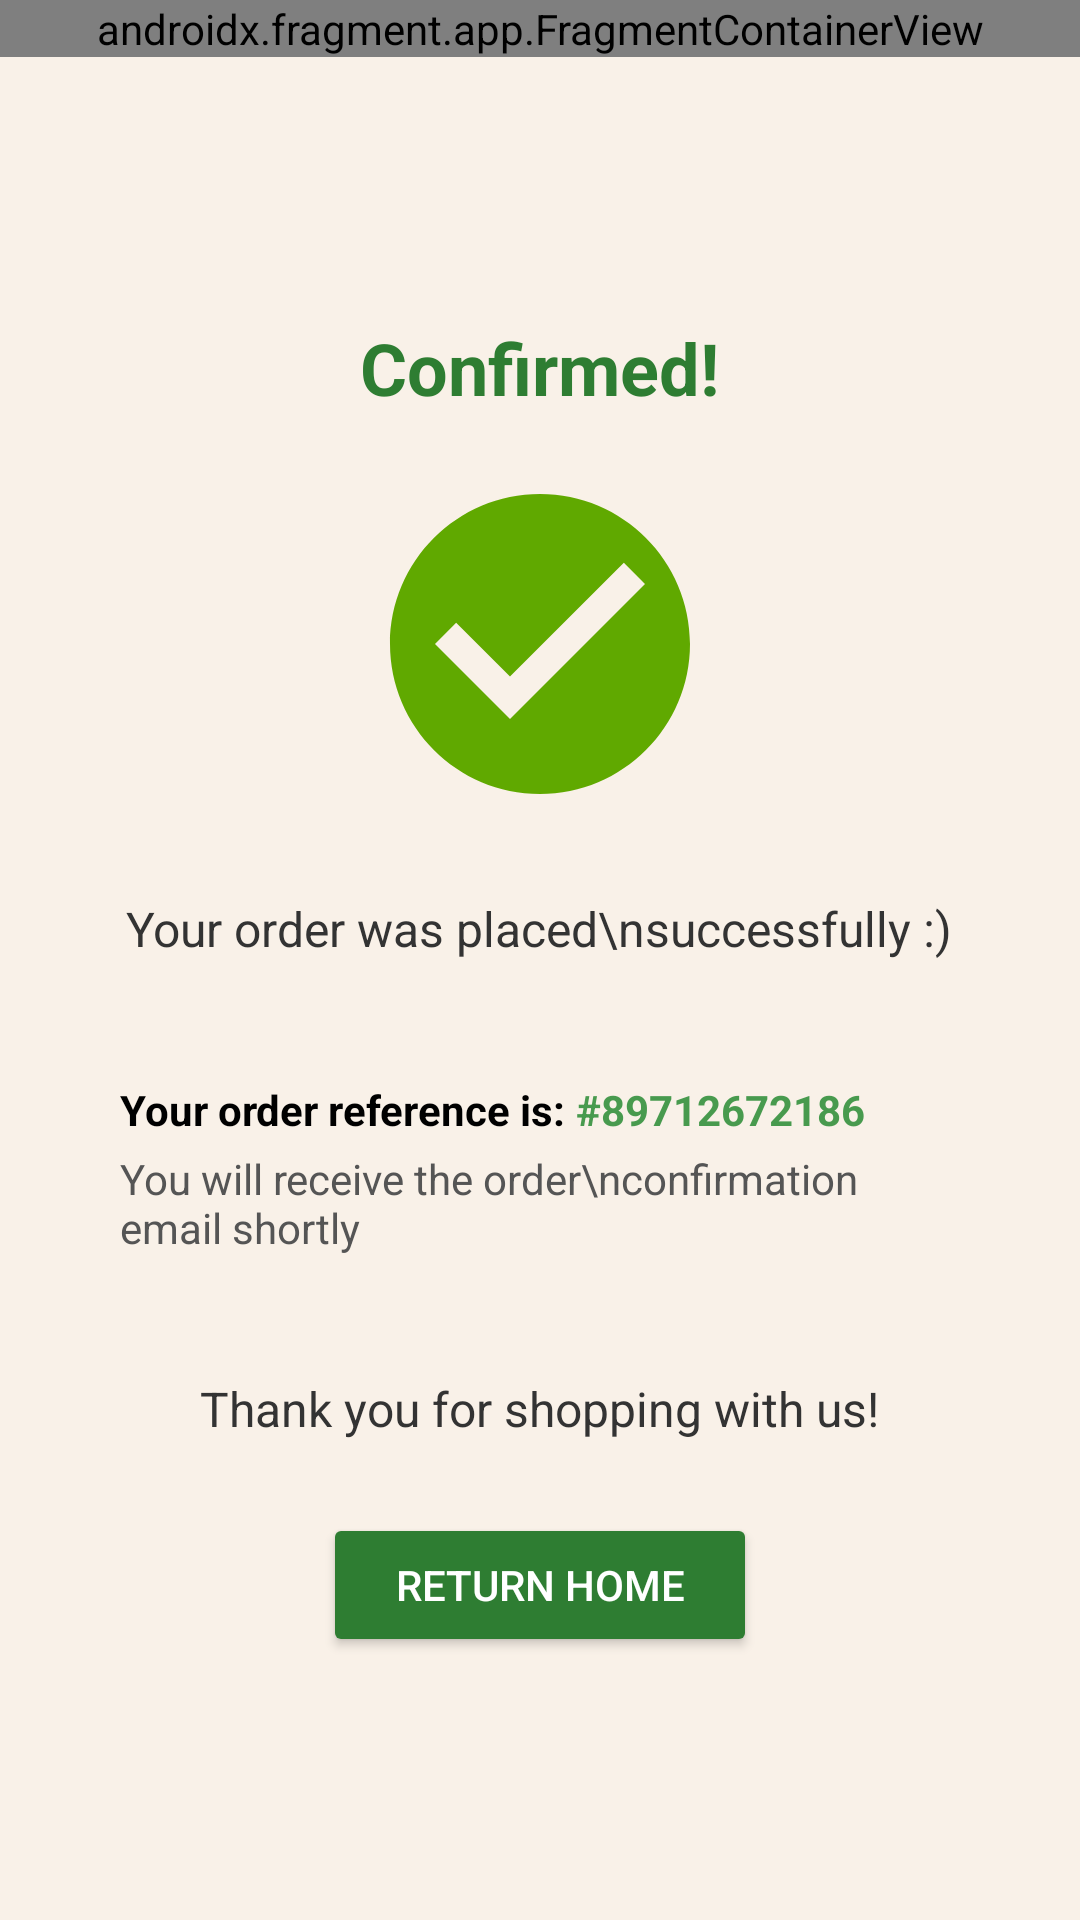

Where to tap for icons on this 1080 × 1920 app screen, as (x=x, y=y):
Checkmark: (x=540, y=644)
